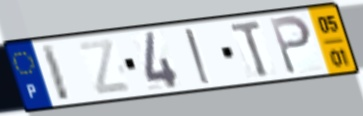4: (142, 30, 180, 91)
I: (38, 41, 73, 104), (182, 26, 214, 87)
P: (267, 13, 314, 77)
T: (228, 18, 273, 80)
Z: (75, 36, 135, 98)
